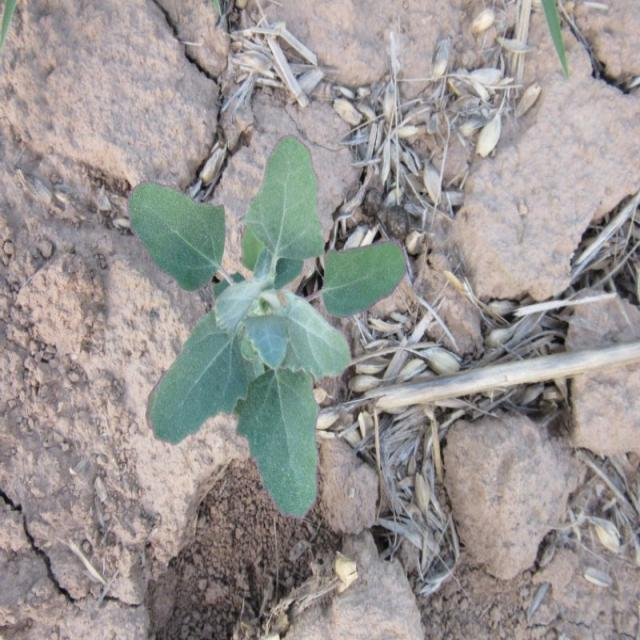ca: (126, 140, 403, 517)
